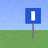sign: (25, 8, 41, 39)
